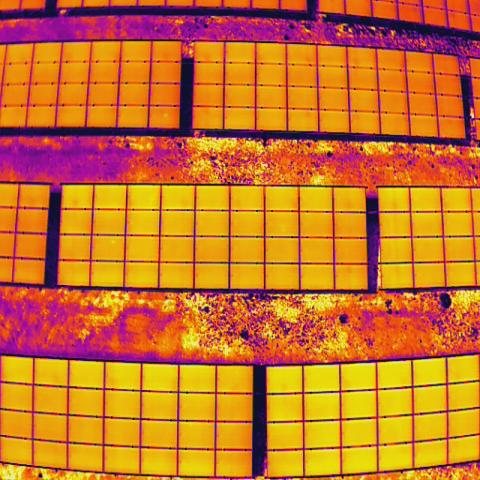fault: (162, 111, 170, 120)
